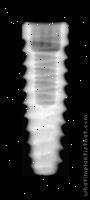BioHorizons: (22, 22, 69, 176)
